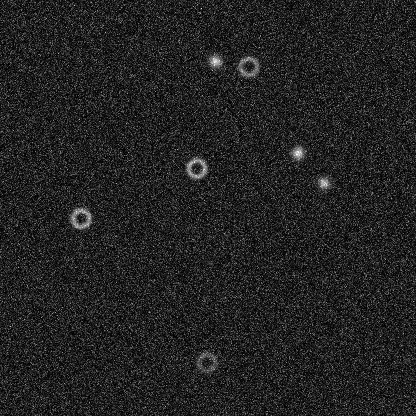Ring: (236, 54, 260, 78), (194, 350, 218, 374), (184, 156, 208, 180), (68, 206, 92, 230)
Spot: (289, 144, 305, 160), (315, 174, 331, 190), (207, 53, 223, 69)
